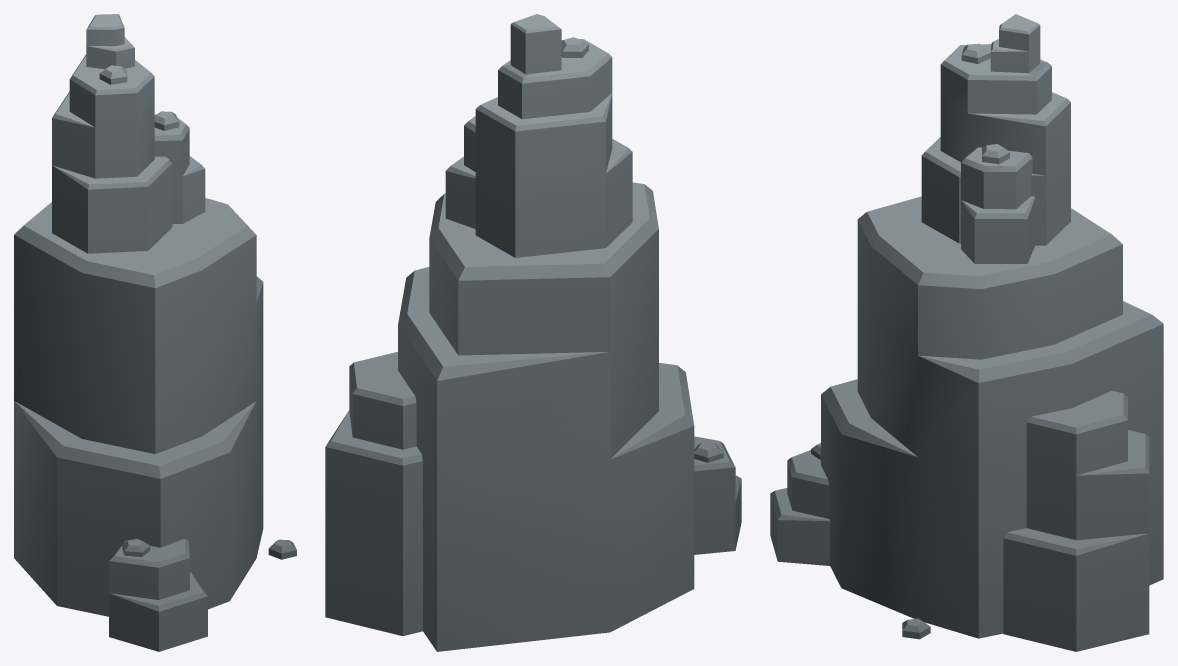
The model's file is Rock_1_Q_Color1.glb.
3 renders of one model, left to right at view 1: azimuth 30°, elevation 25°; view 2: azimuth 150°, elevation 25°; view 3: azimuth 270°, elevation 25°, orthographic. The views are drawn at different scales.
Visible parts, largest first — view 1: Rock_1_Q_Color1; view 2: Rock_1_Q_Color1; view 3: Rock_1_Q_Color1.
Part boxes in pixels (x1,y1,x2,y2): Rock_1_Q_Color1: [14, 14, 296, 651]; Rock_1_Q_Color1: [325, 14, 741, 651]; Rock_1_Q_Color1: [770, 14, 1163, 651].
Size of the model in its own units: 2.22 by 4.28 by 2.8.
Materials: 1 (1 with a texture image).
